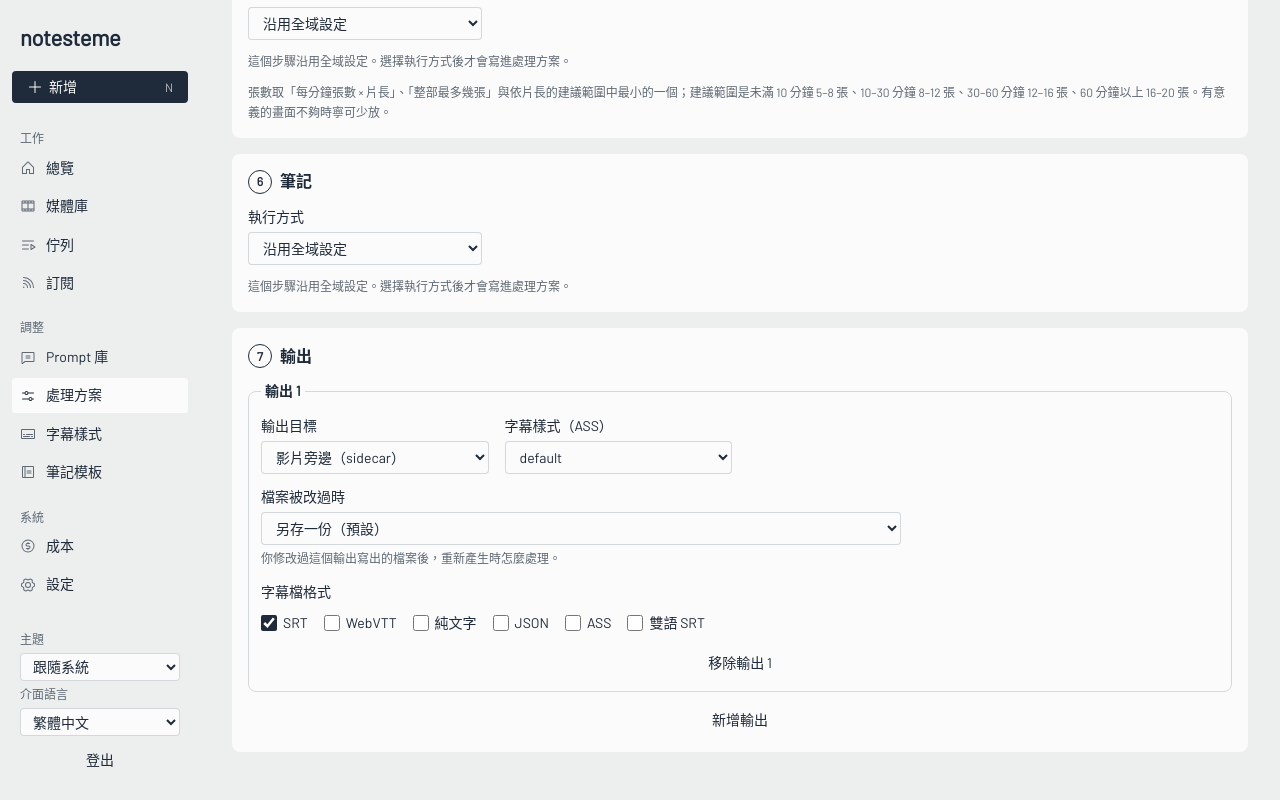
it: 處理方案：編輯 › 每個輸出可以選檔案被改過時的處理方式（OUT-R12、VAULT-R6）
The image size is (1280, 800).
(page scrolled)
Select "不寫入，標示「需要你處理」" in the dropdown labelled "檔案被改過時": (581, 529) top-left (261, 512), bottom-right (901, 546)
(page scrolled)
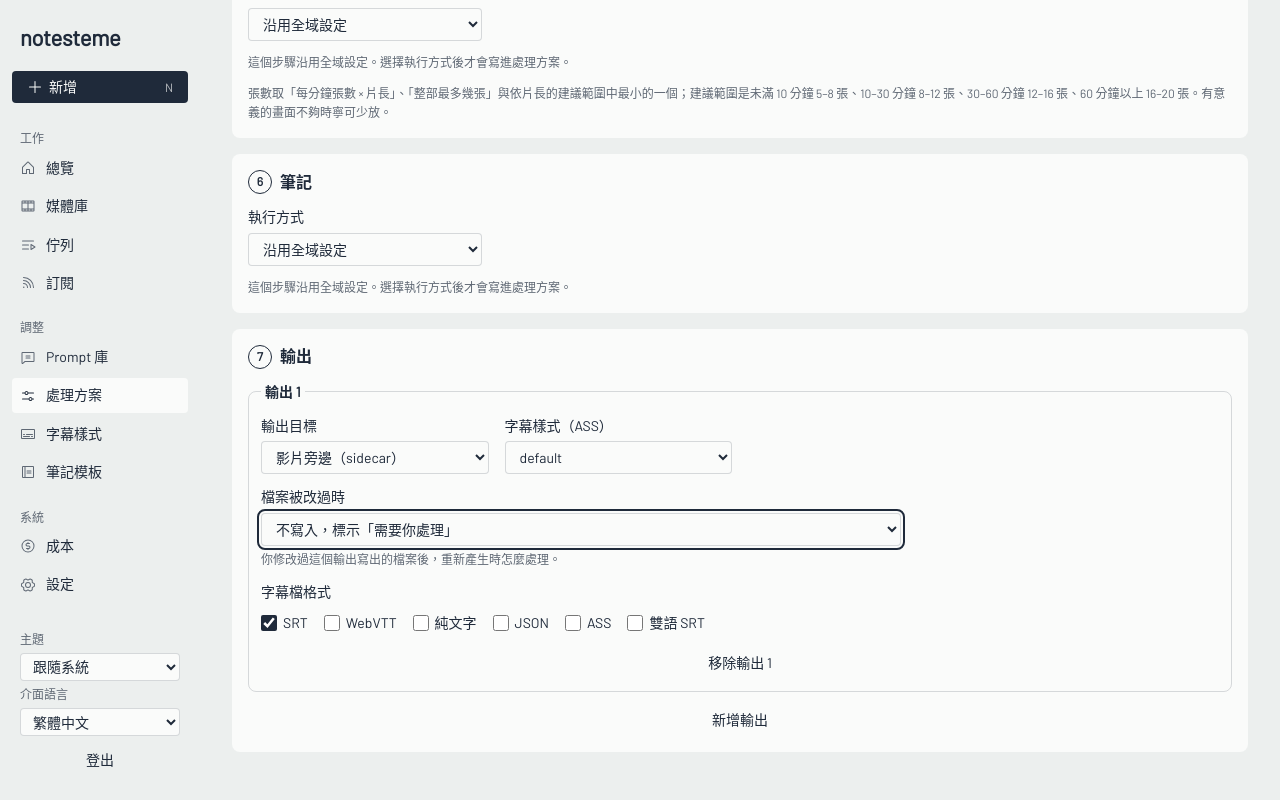
# 換目標時保留（三種目標都有這個欄位）
Select "指定資料夾" in the dropdown labelled "輸出目標": (375, 458) top-left (261, 442), bottom-right (488, 474)
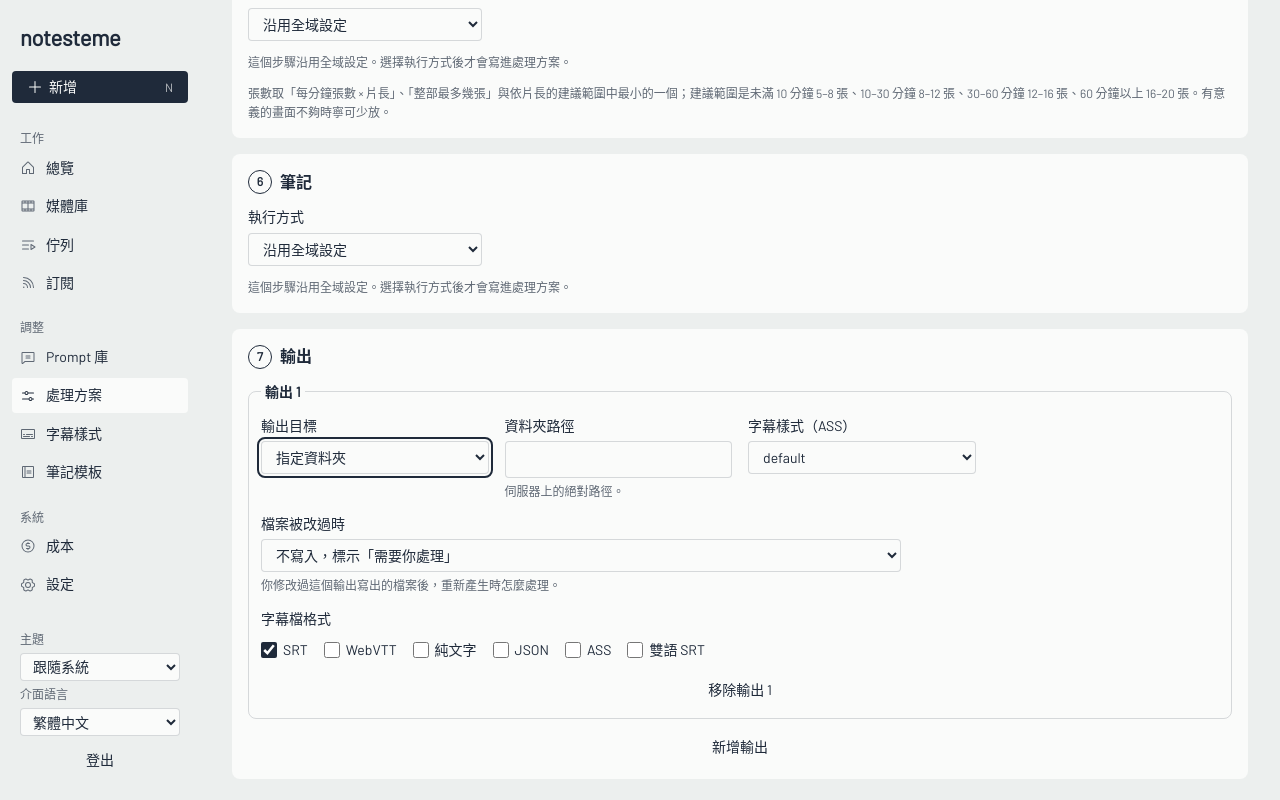
Select "影片旁邊（sidecar）" in the dropdown labelled "輸出目標": (375, 458) top-left (261, 442), bottom-right (488, 474)
(page scrolled)
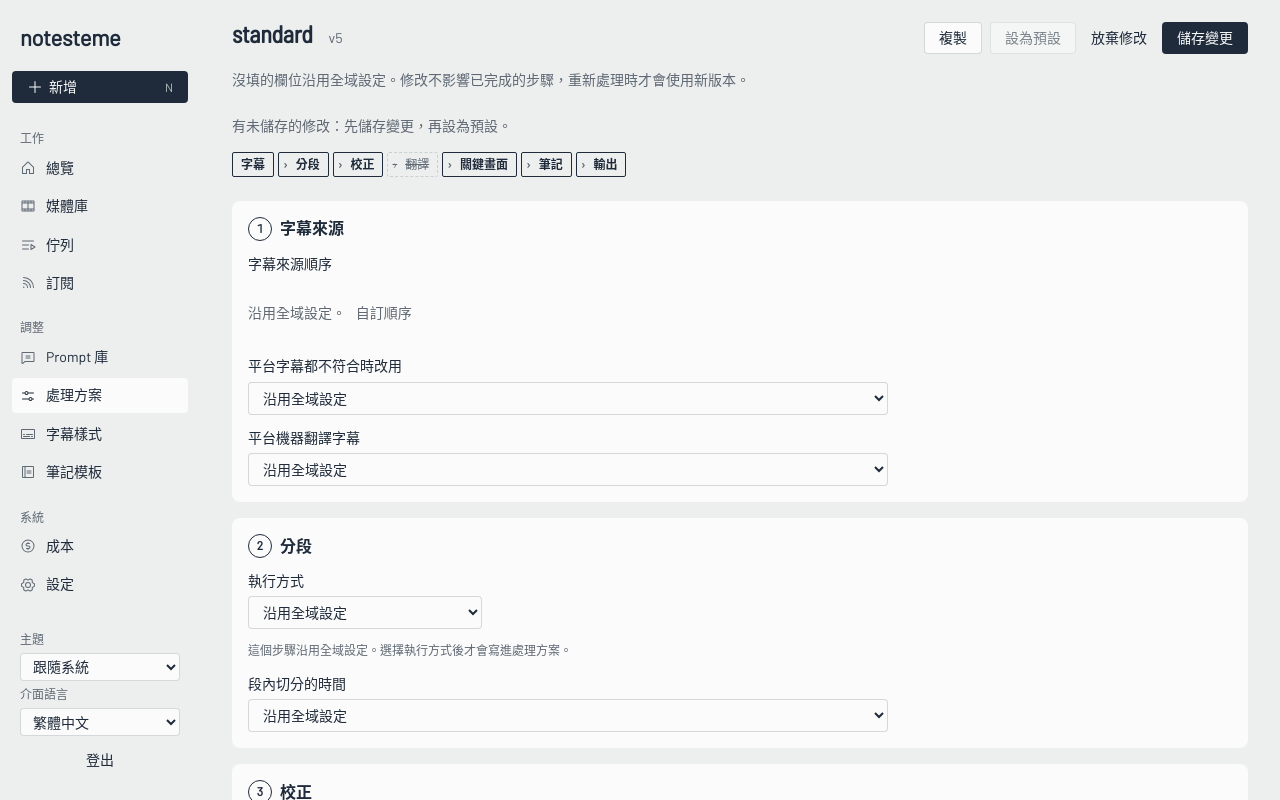
Click the button "儲存變更": (1205, 38) top-left (1162, 22), bottom-right (1248, 54)
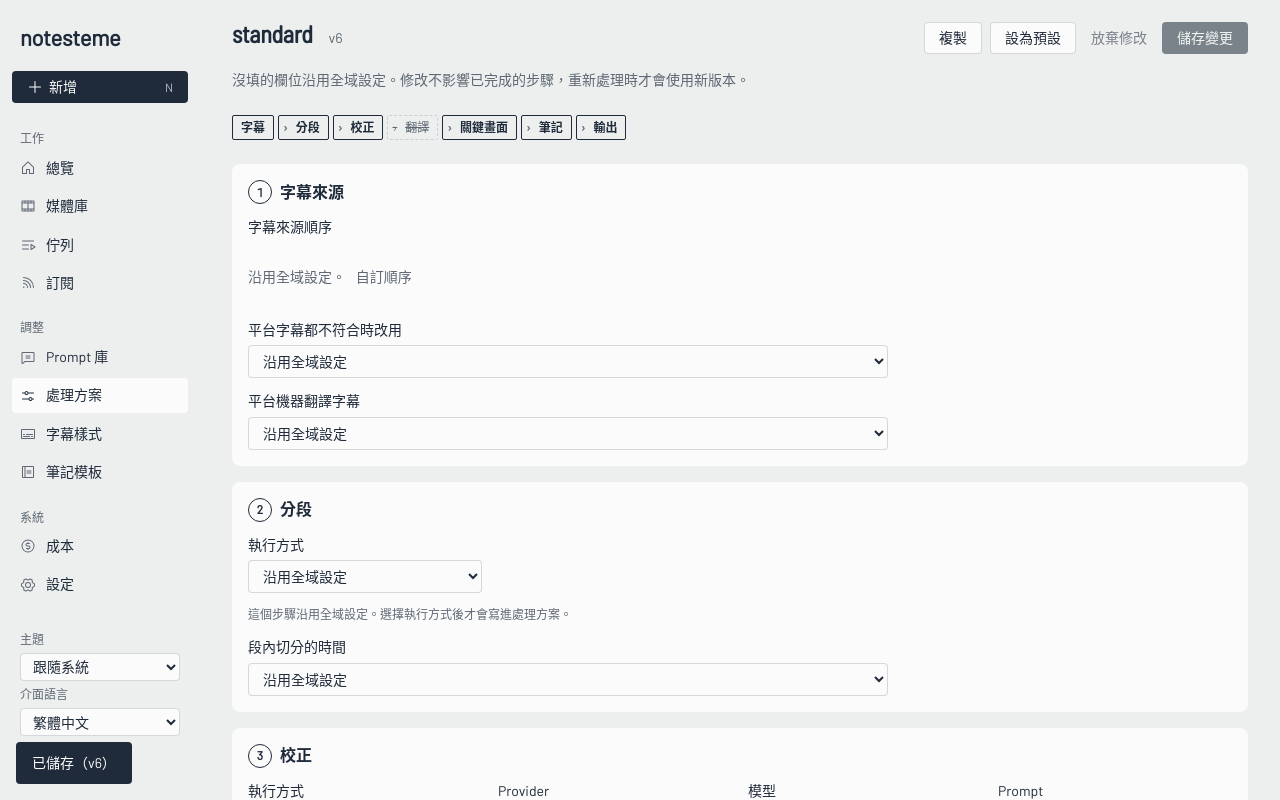
Expected: the text "已儲存（v6）" is shown, top-left (32, 752), bottom-right (116, 774)
